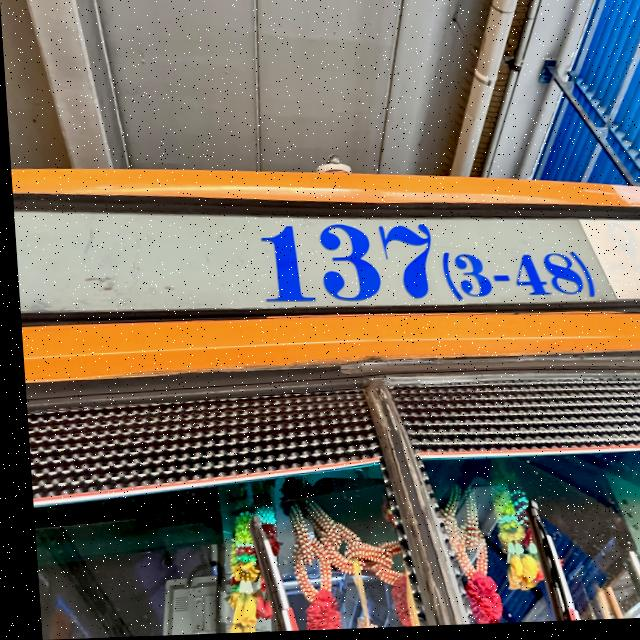BMTA-bus: (9, 155, 640, 640)
Bus-Line-Number: (243, 209, 600, 316)
